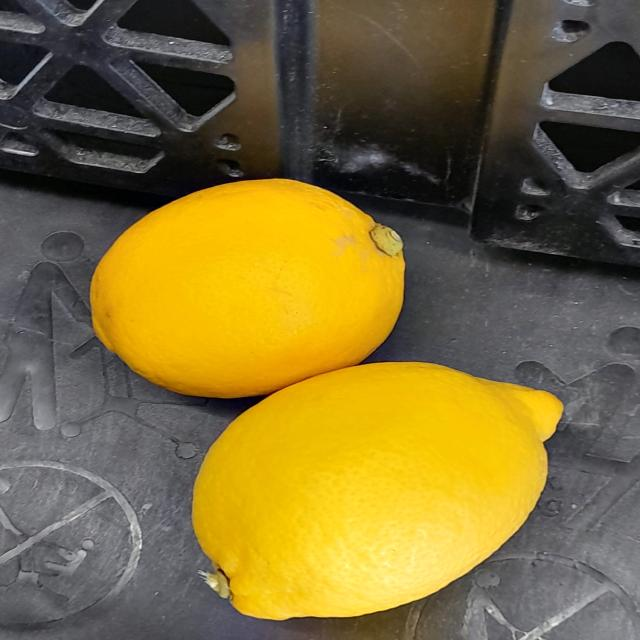lemon: (165, 346, 570, 629), (74, 166, 420, 385)
